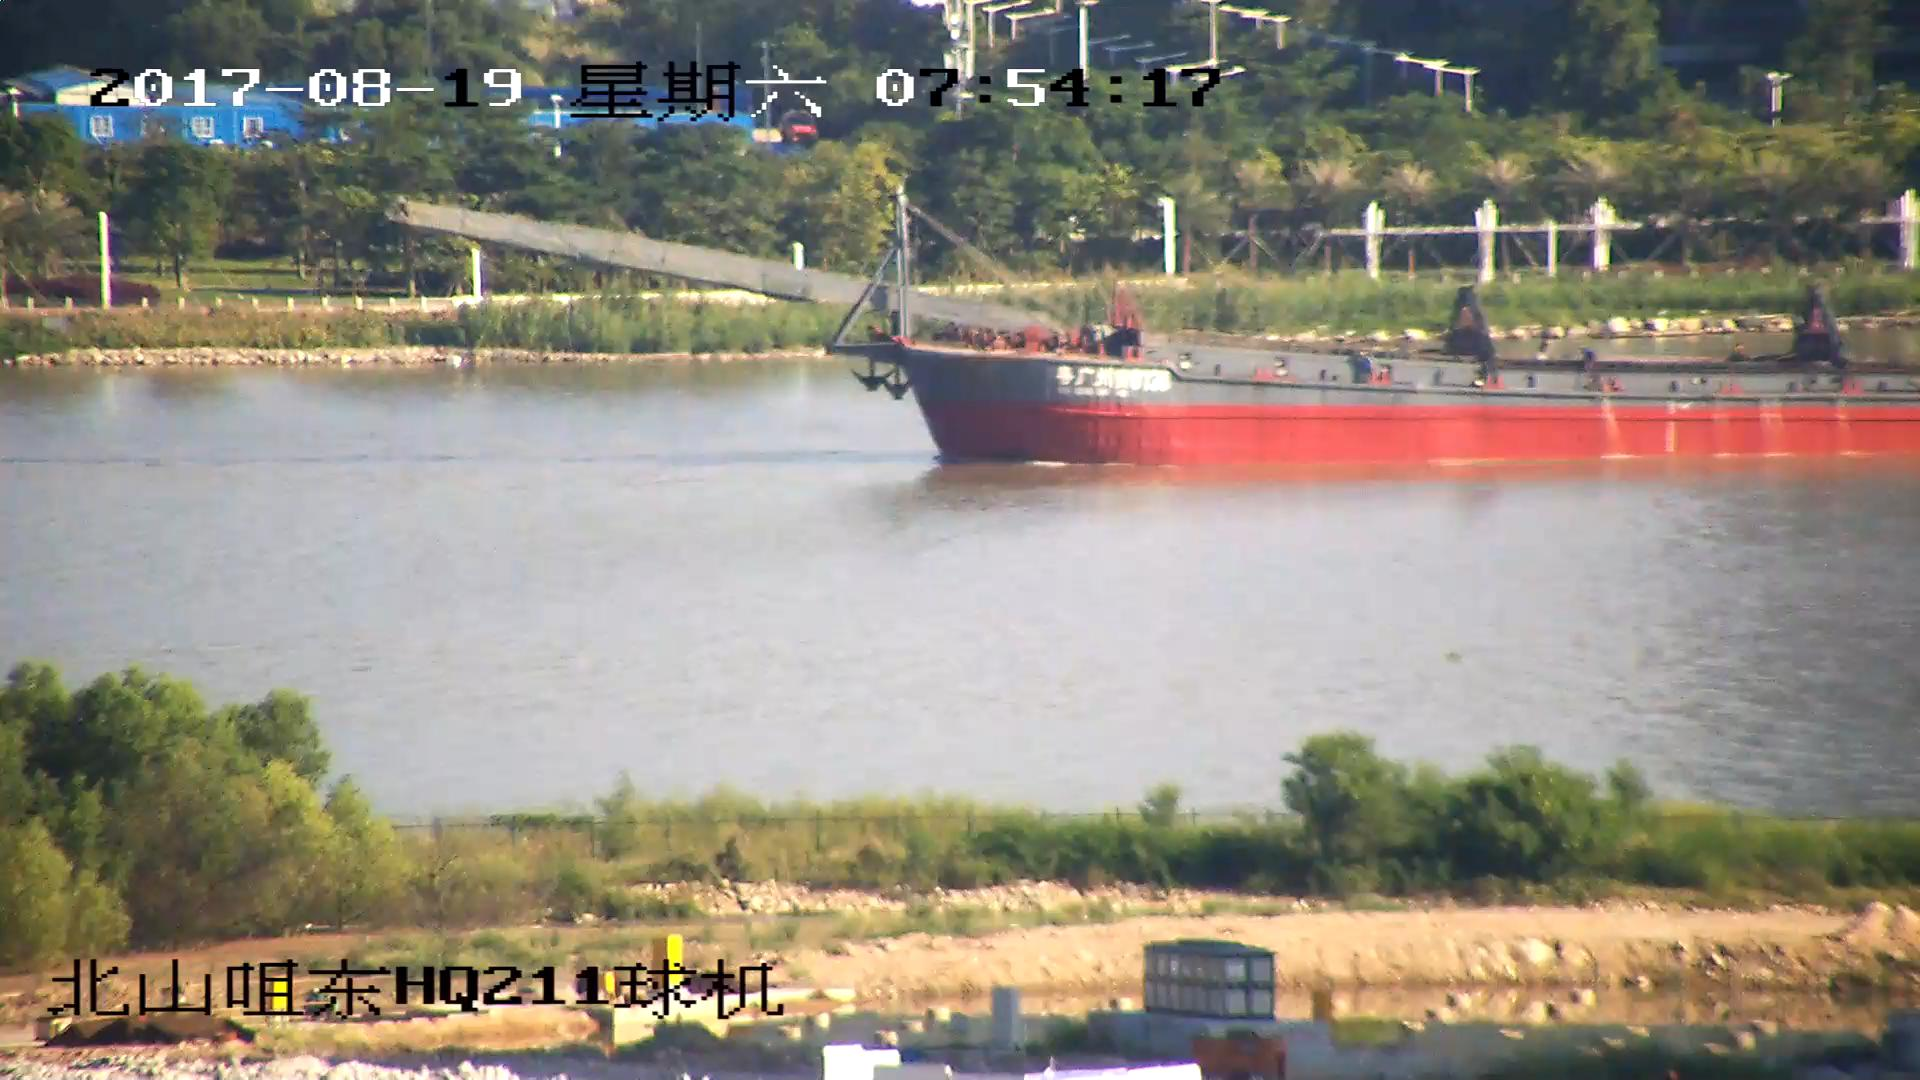bulk cargo carrier: (397, 197, 1920, 470)
